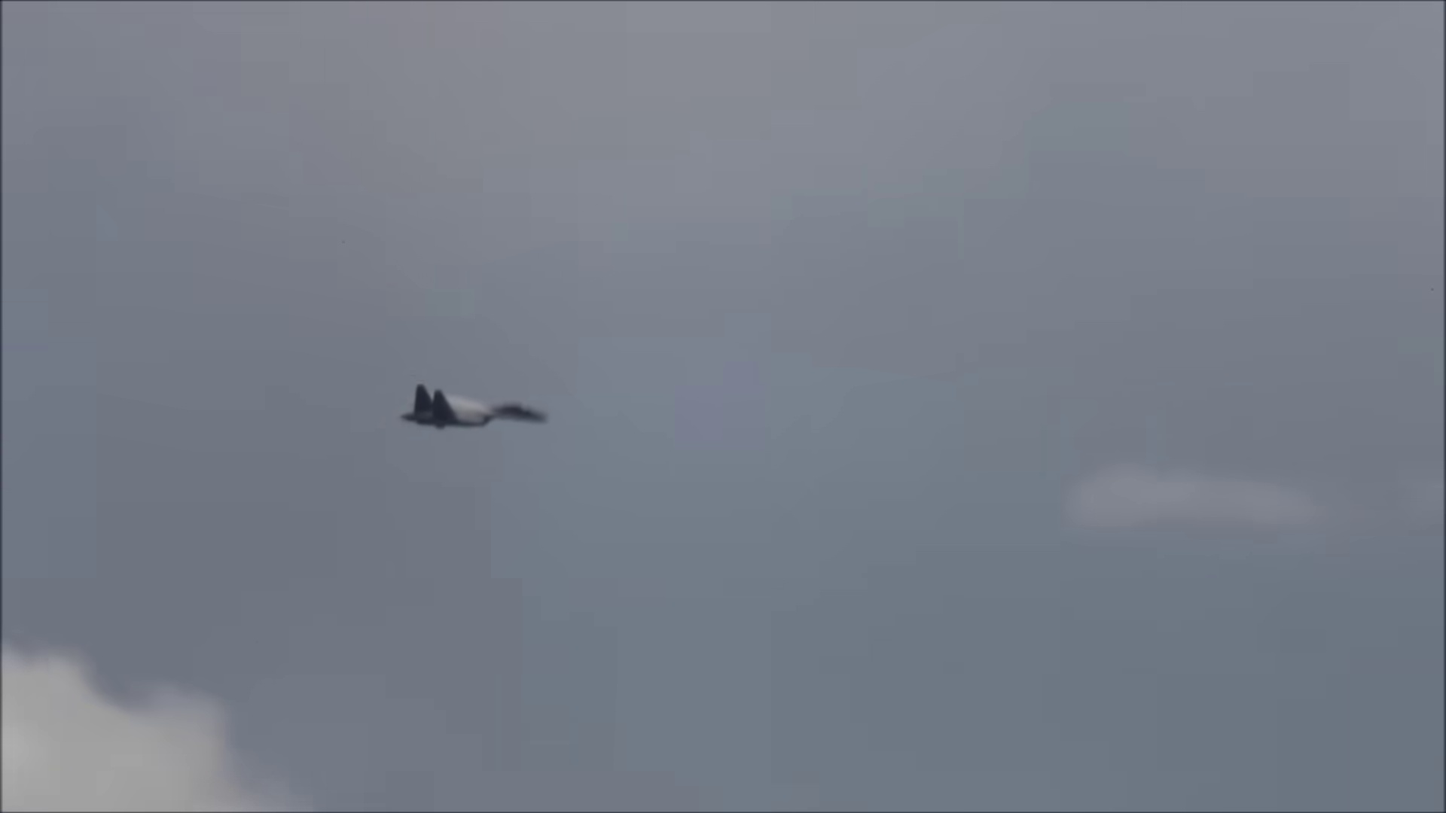Su35: (397, 381, 547, 434)
